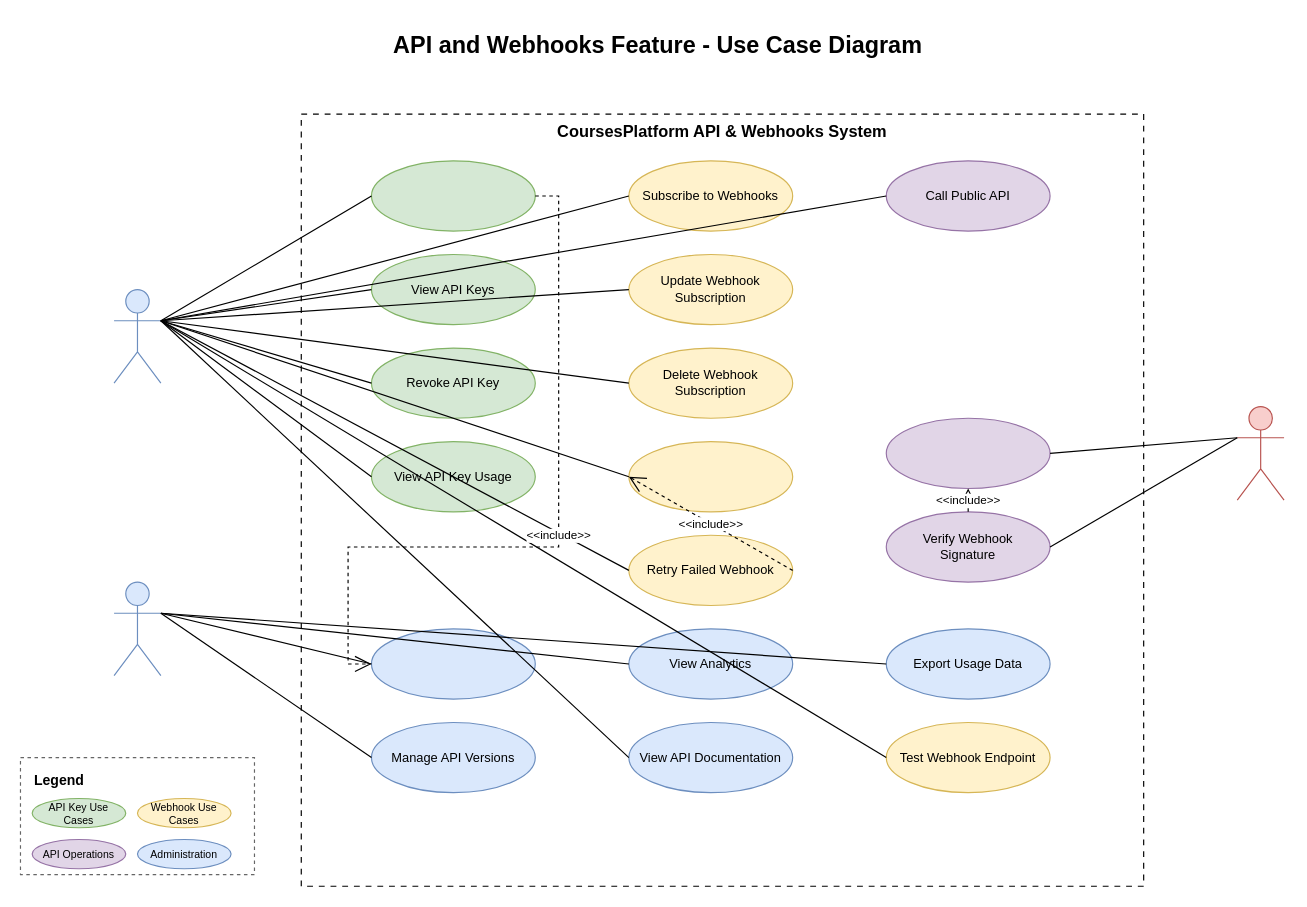
This 1307x907 diagram has some shape labels left out. Here are the shapes that lost their labels. From the top down, the centre of each, then its label:
At (452,195): "Generate API Key".
At (137,335): "Developer".
At (967,452): "Receive Webhook Event".
At (1260,452): "External System".
At (710,476): "View Webhook Delivery History".
At (137,628): "Organization Admin".
At (452,663): "Set Rate Limits".
